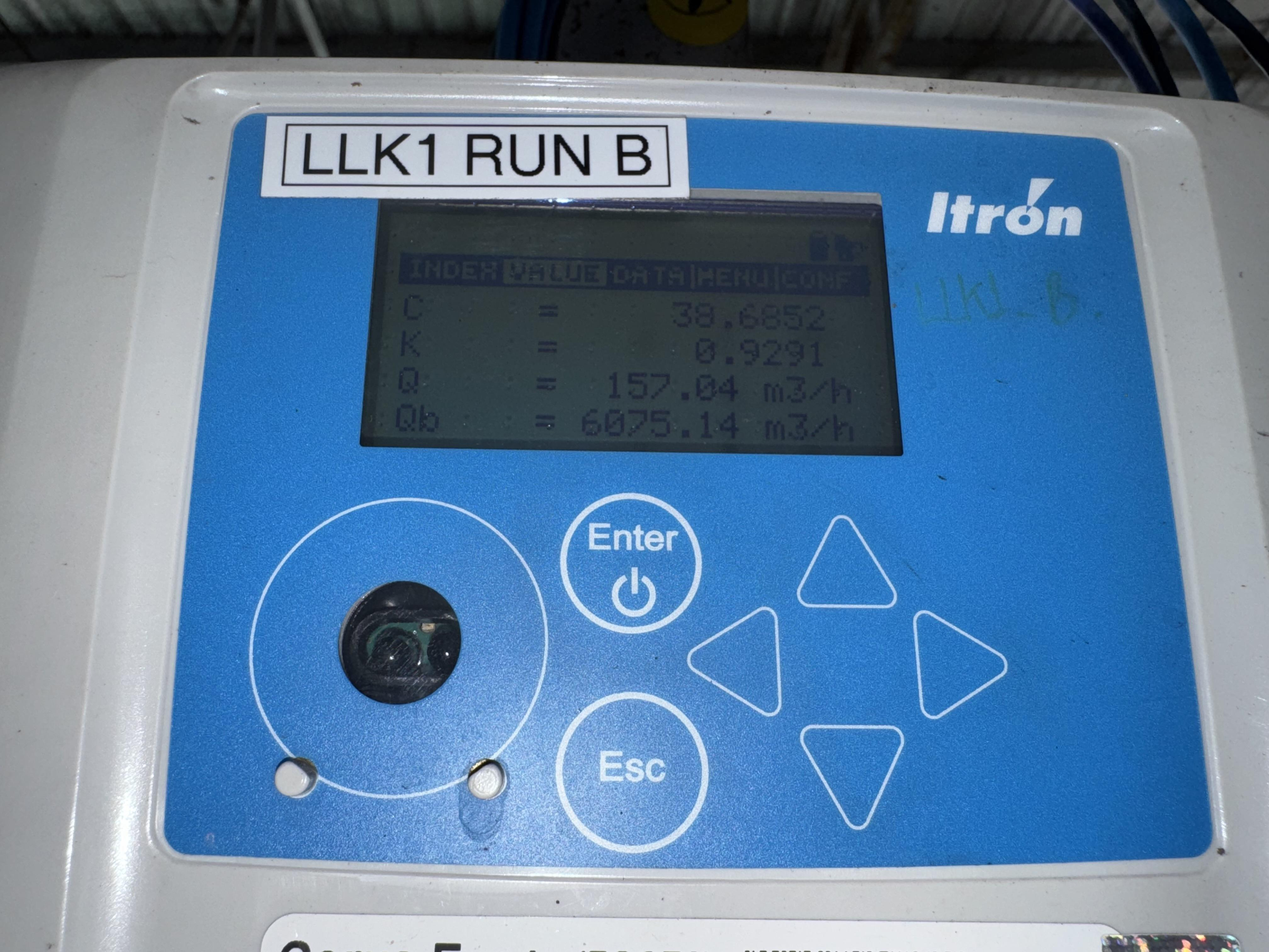digital_screen: (360, 185, 907, 454)
